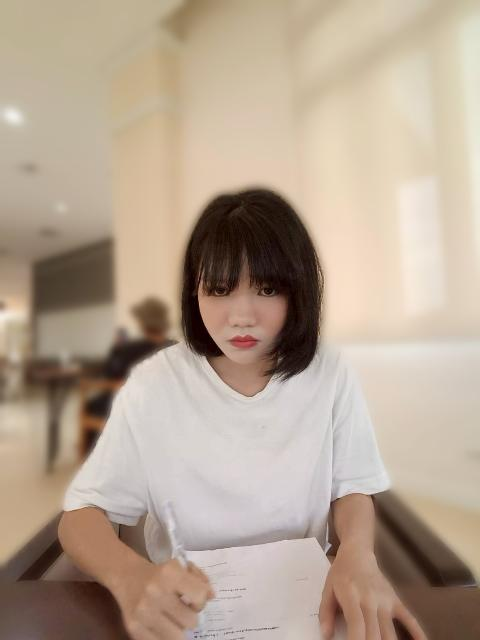fokus: (195, 215, 294, 367)
